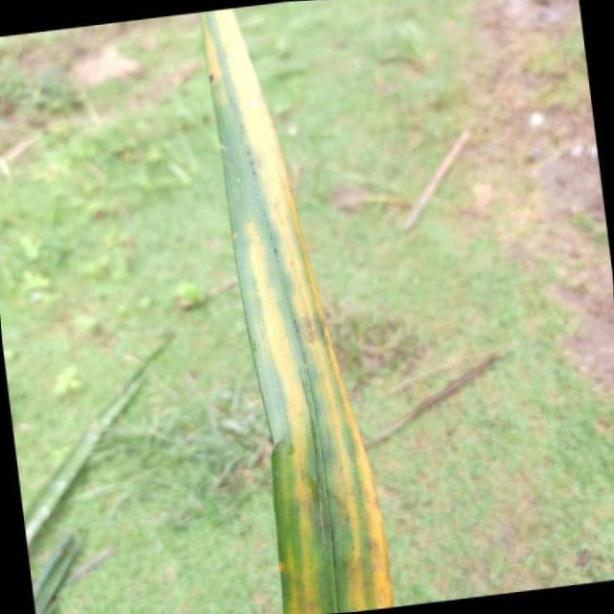Megnesium: (189, 7, 391, 614)
